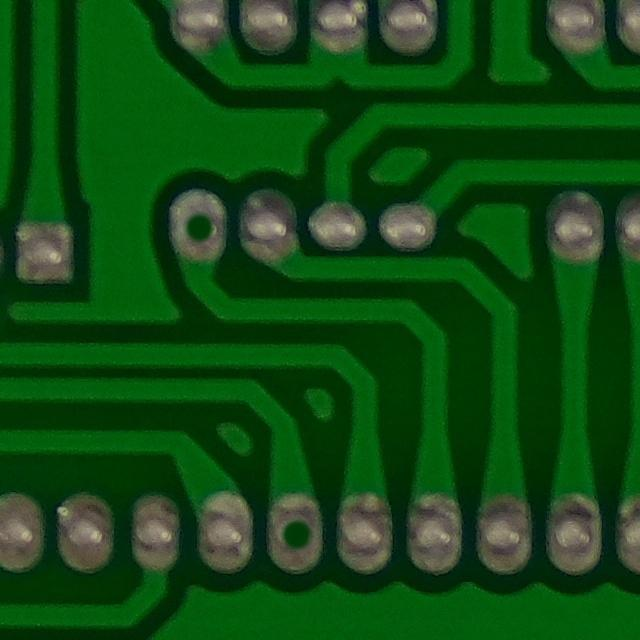missing_hole: (157, 177, 240, 268), (259, 491, 337, 577)
